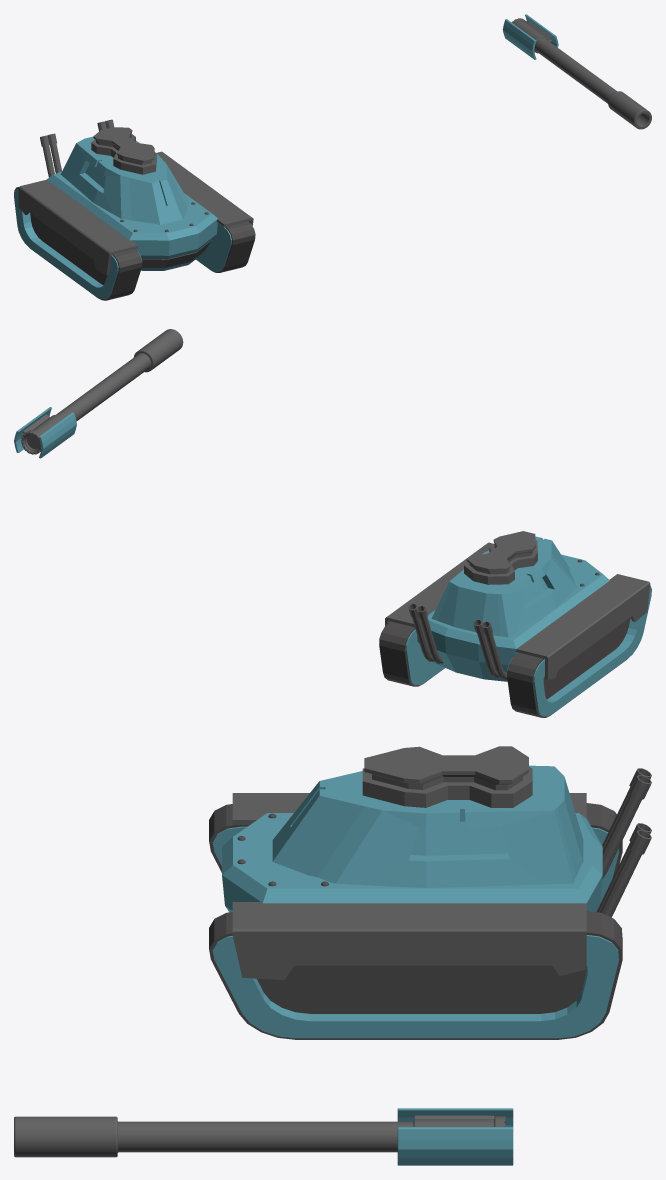
File: SmallTankAnimation.fbx
3 views of the same model, one above another, from view 1: azimuth 30°, elevation 25°; view 2: azimuth 150°, elevation 25°; view 3: azimuth 270°, elevation 25° (orthographic). The views are drawn at different scales.
Visible parts, largest first — view 1: Asmalltank, Asmalltank.001; view 2: Asmalltank, Asmalltank.001; view 3: Asmalltank, Asmalltank.001.
Boxes of the visible parts, bbox=[...] form: Asmalltank: bbox=[14, 119, 255, 300]; Asmalltank.001: bbox=[502, 14, 651, 129]; Asmalltank: bbox=[379, 531, 651, 717]; Asmalltank.001: bbox=[14, 329, 183, 458]; Asmalltank: bbox=[209, 746, 651, 1039]; Asmalltank.001: bbox=[14, 1108, 513, 1165].
Bounding box in the file's own units: 971 × 236 × 558.
